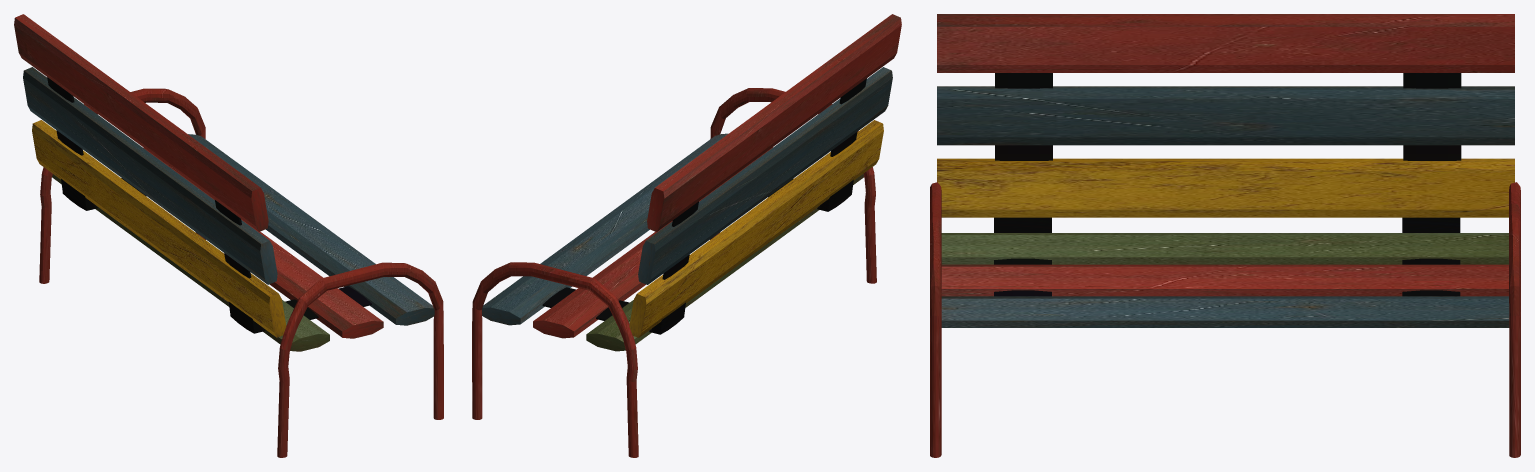
Rendered from lowpoly_park_bench-transformed.glb.
3 renders of one model, left to right at view 1: azimuth 30°, elevation 25°; view 2: azimuth 150°, elevation 25°; view 3: azimuth 270°, elevation 25°, orthographic. The views are drawn at different scales.
Visible parts, largest first — view 1: Park_Bench_Palette_0; view 2: Park_Bench_Palette_0; view 3: Park_Bench_Palette_0.
Part boxes in pixels (x1,y1,x2,y2): Park_Bench_Palette_0: (14, 14, 443, 457); Park_Bench_Palette_0: (472, 14, 901, 457); Park_Bench_Palette_0: (930, 14, 1520, 457).
Size of the model in its own units: 0.4663 by 0.6356 by 1.02.
1 material, 1 textured.
